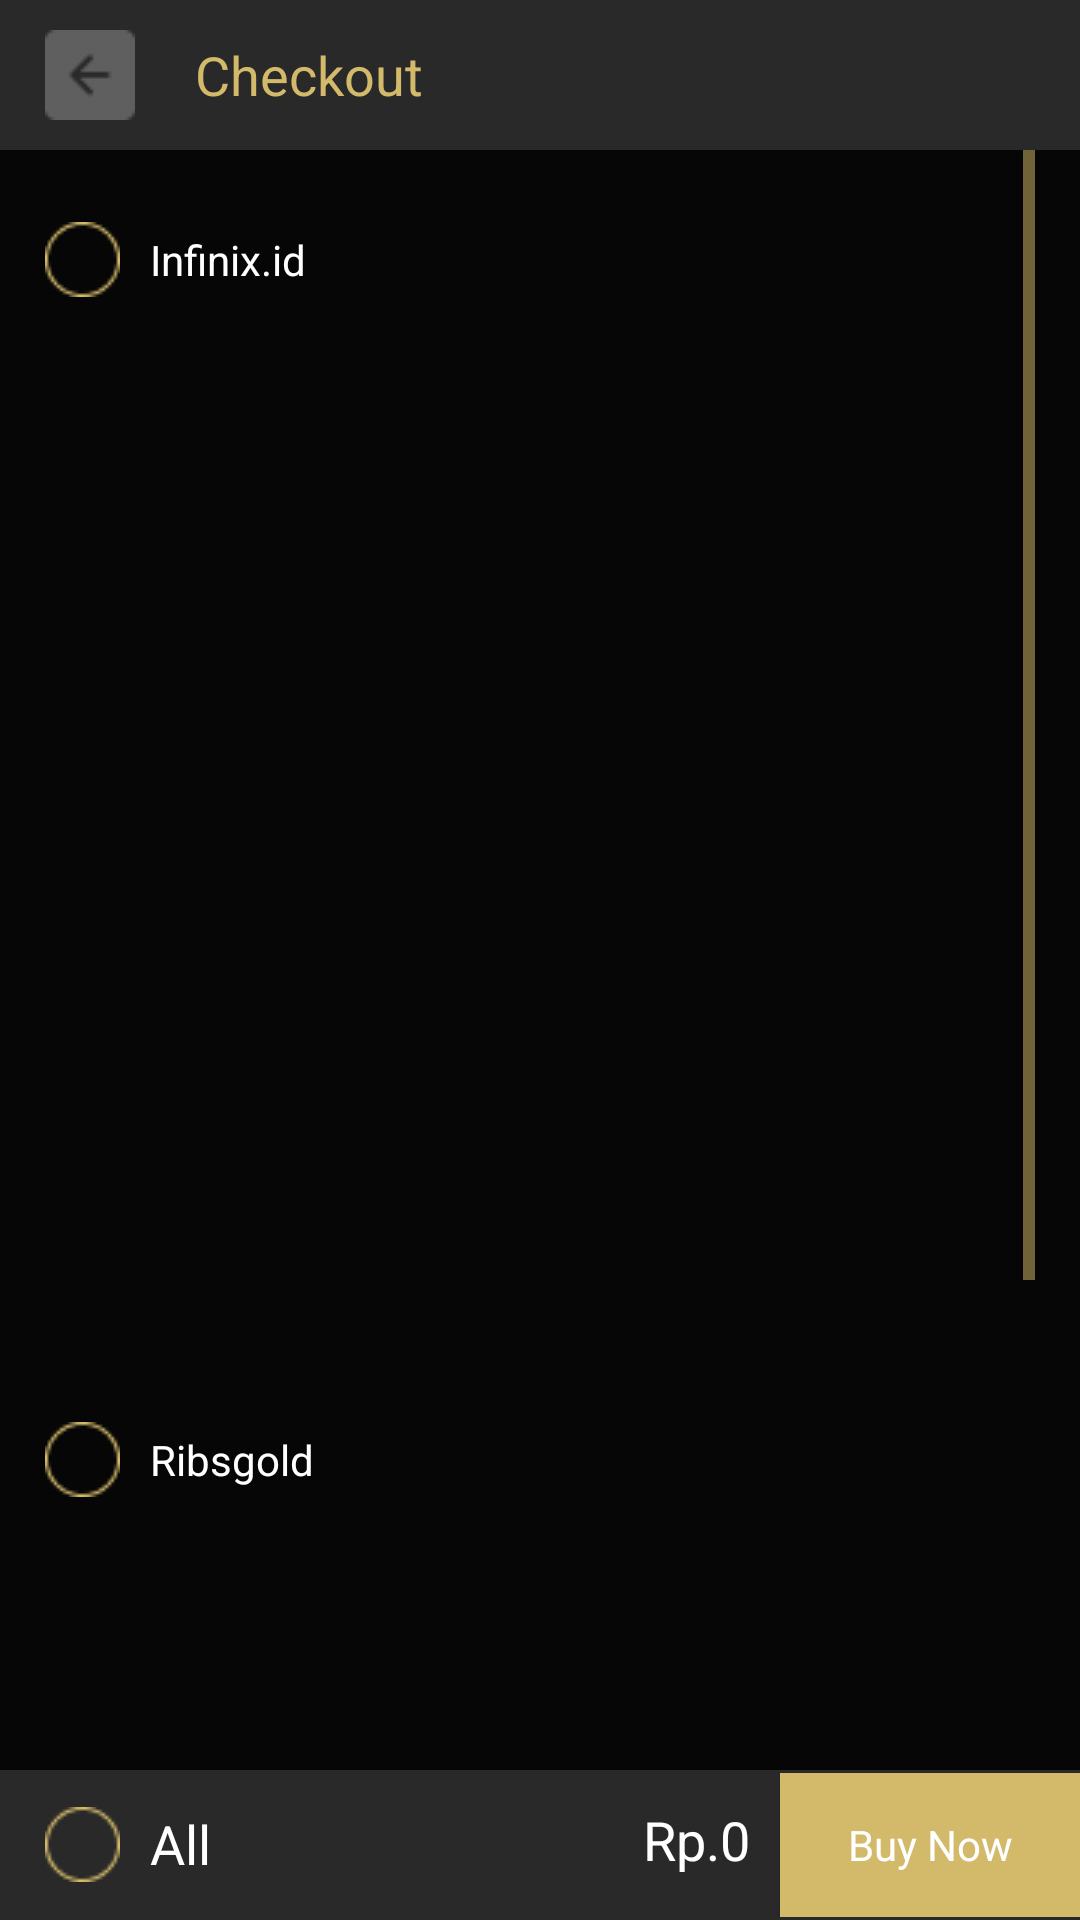

Where to tap for icons on this 1080*1920 app screen, as (x,y):
arrow: (90,75)
